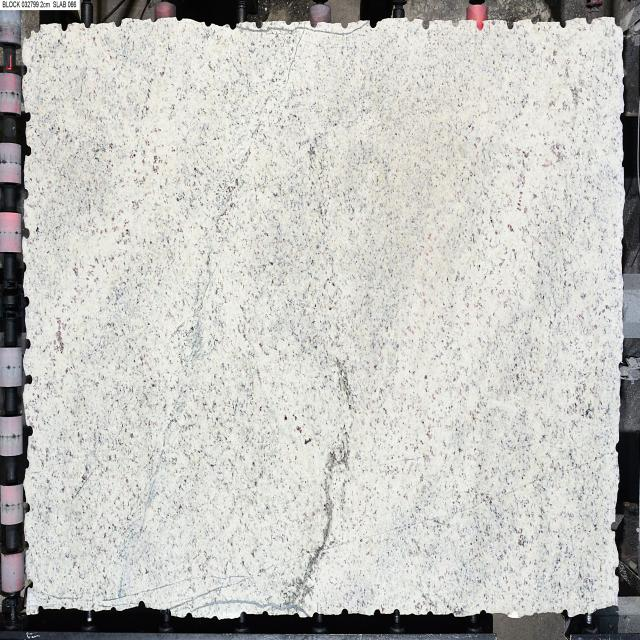chapa: (23, 15, 630, 635)
furo: (19, 13, 45, 50)
veio: (446, 14, 462, 33), (22, 370, 36, 390), (24, 144, 36, 163), (21, 499, 33, 517), (58, 20, 71, 36), (556, 14, 568, 31), (616, 107, 626, 127), (21, 61, 30, 83), (474, 15, 485, 33), (22, 110, 36, 124), (82, 18, 94, 34), (111, 16, 123, 32), (420, 16, 432, 32), (24, 423, 35, 440), (22, 225, 32, 243), (26, 576, 36, 594), (184, 606, 194, 624), (306, 17, 321, 29), (504, 16, 514, 34), (226, 16, 237, 32), (20, 183, 30, 200), (136, 598, 148, 612), (582, 14, 594, 28), (23, 540, 33, 556), (24, 336, 32, 354), (612, 564, 621, 580), (368, 18, 380, 30), (22, 295, 32, 309), (530, 13, 540, 26), (38, 602, 46, 616), (254, 18, 264, 28)
